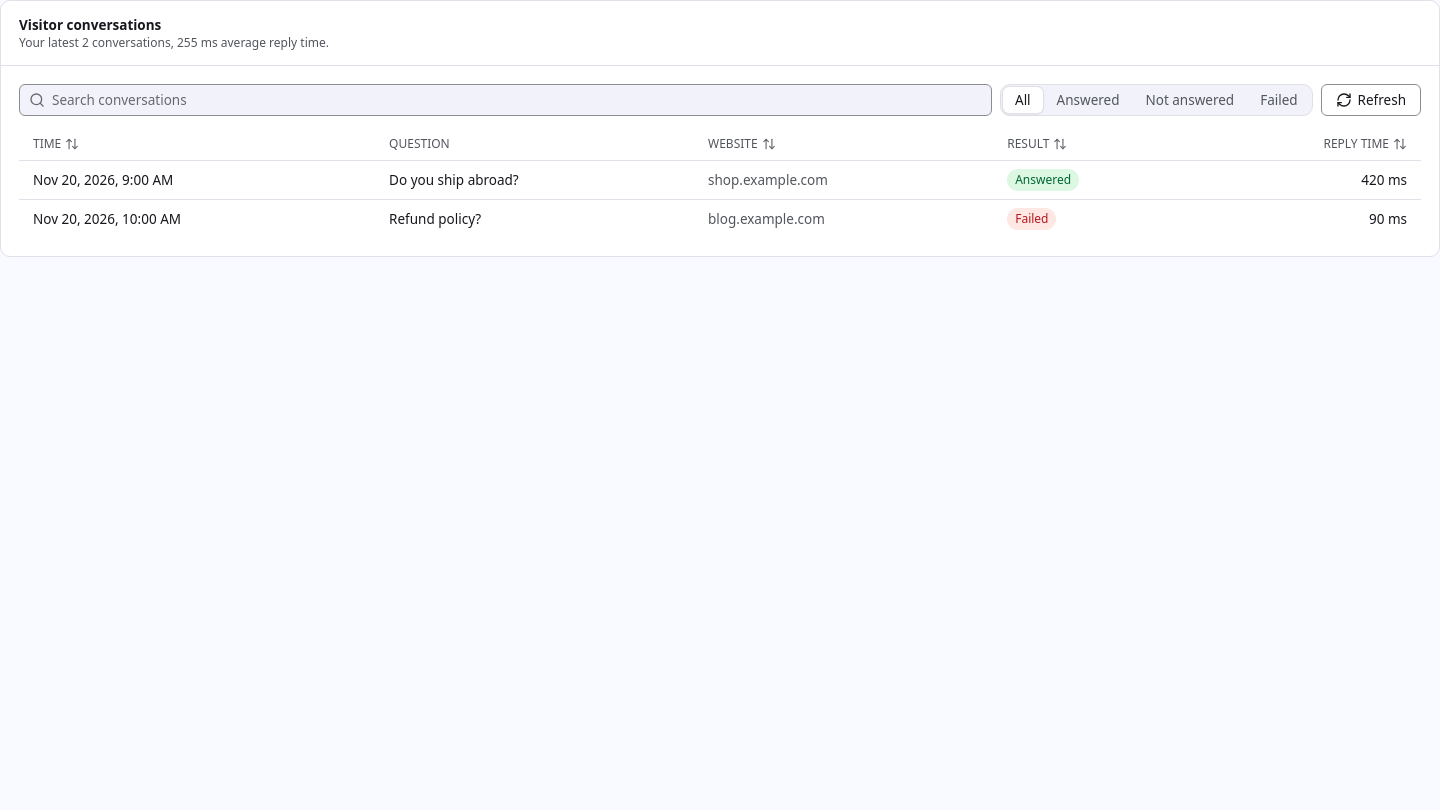
Test case: lists conversations, filters them and opens the full text
Expected: the text "Do you ship abroad?" is shown, [389,171,519,189]
Expected: the text "Failed" is shown, [1007,208,1056,230]
Type "refund" into the search field labelled "Search conversations" at (506, 100), box [19,84,992,116]
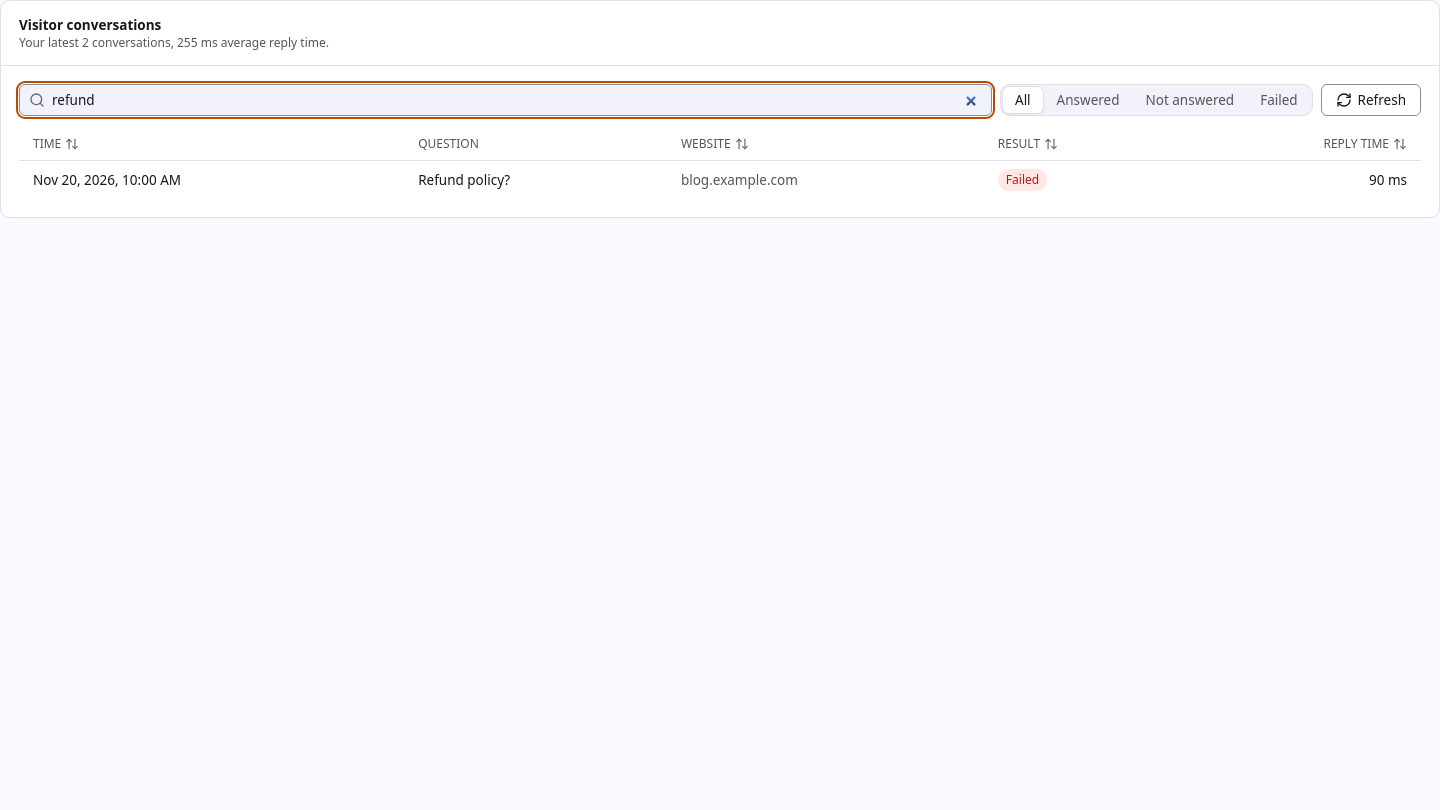
Expected: the text "Do you ship abroad?" is gone
Click the text "Refund policy?" at (464, 180), box [418,171,510,189]
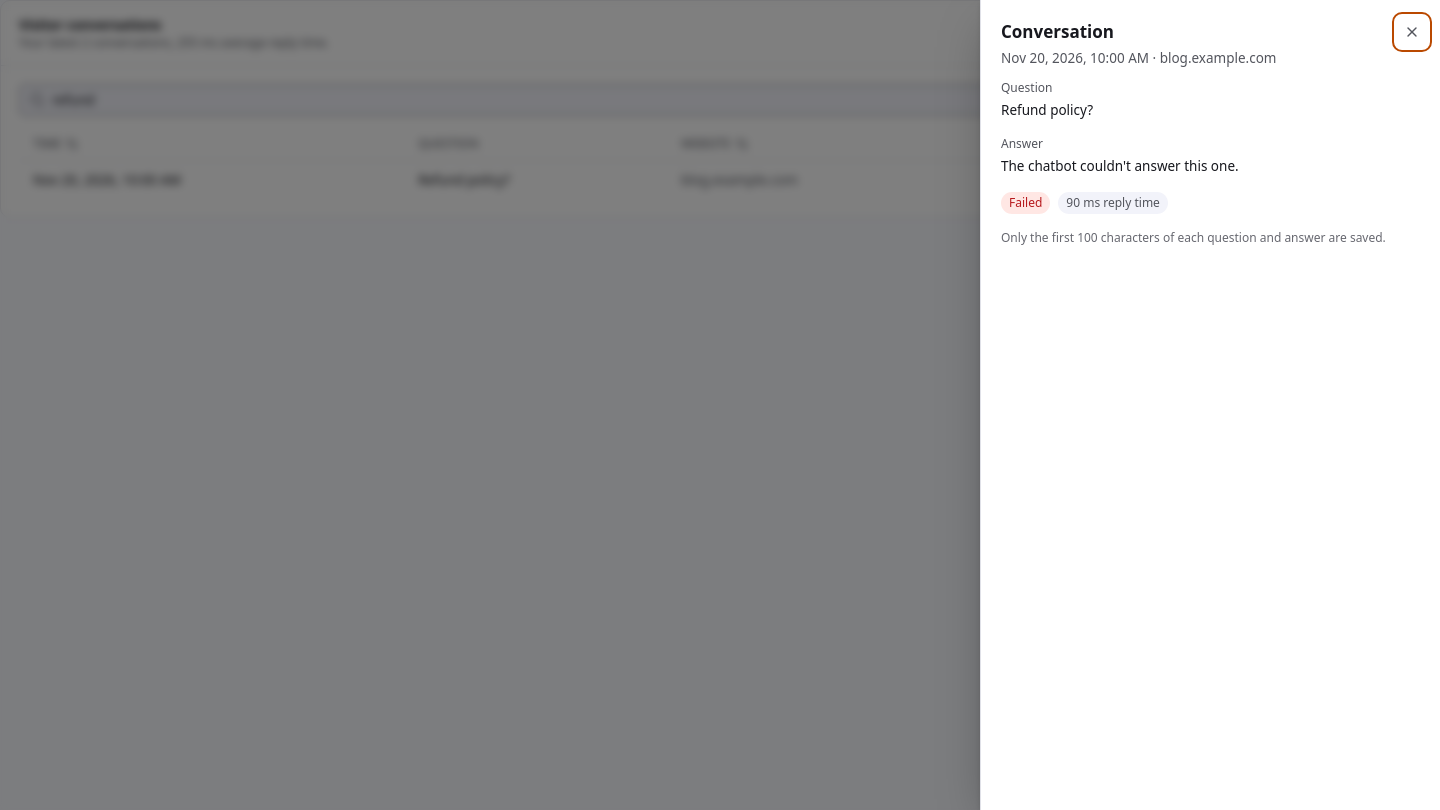
Expected: the dialog "Conversation" shows "The chatbot couldn't answer this one.", [1001,157,1239,175]
